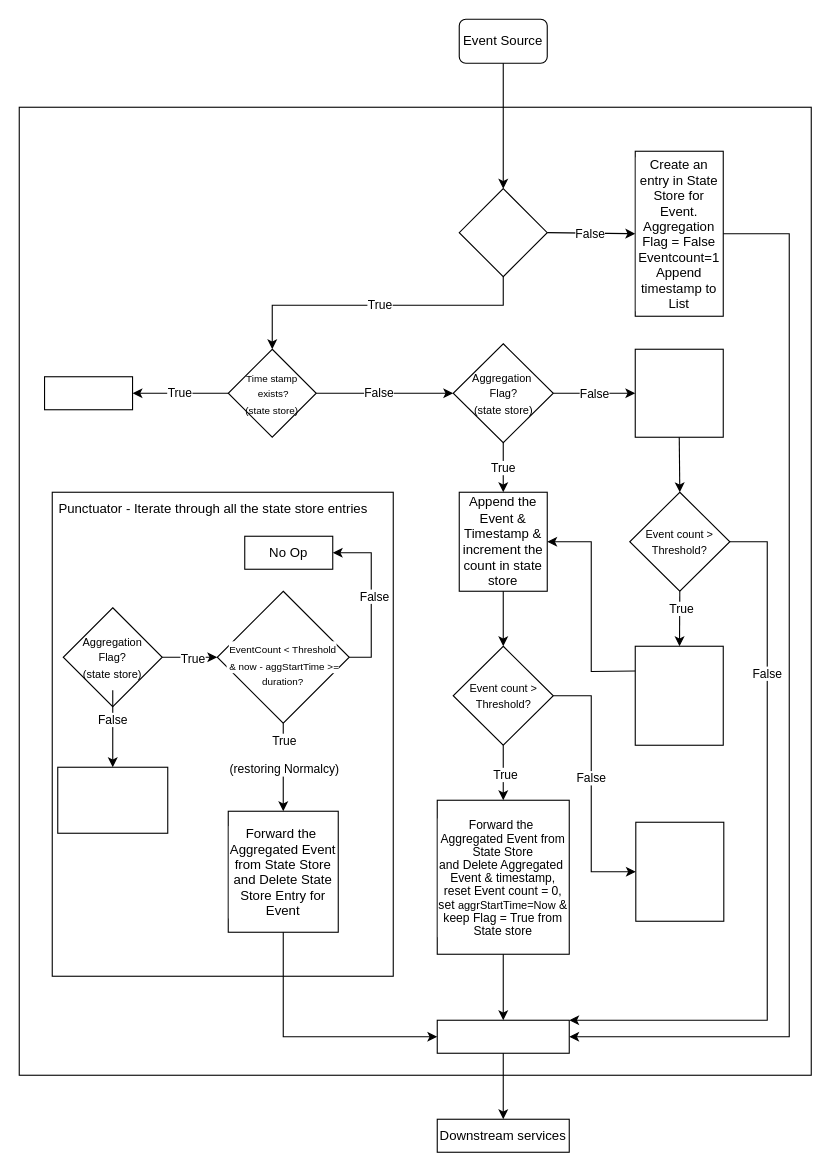
The diagram is 831 pixels wide and 1172 high, and some of its shapes have lost their labels. Each missing label, with the box of its shape:
Aggregation flag = True Event count = 0 aggrStartTime = Now (state store): (634, 645, 723, 745)
Delete the State Store Entry for Event: (57, 766, 168, 833)
Drop the event: (43, 376, 133, 410)
Increment the count for event in state store: (634, 348, 723, 437)
Publish Events to Downstream services: (436, 1019, 569, 1053)
state store has an entry for Event: (458, 188, 547, 277)
Store Appended Event & timestamp & Incremented count in State Store: (635, 821, 724, 921)
